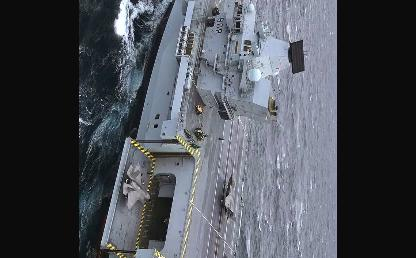F22: (124, 163, 152, 209), (221, 173, 237, 224)
